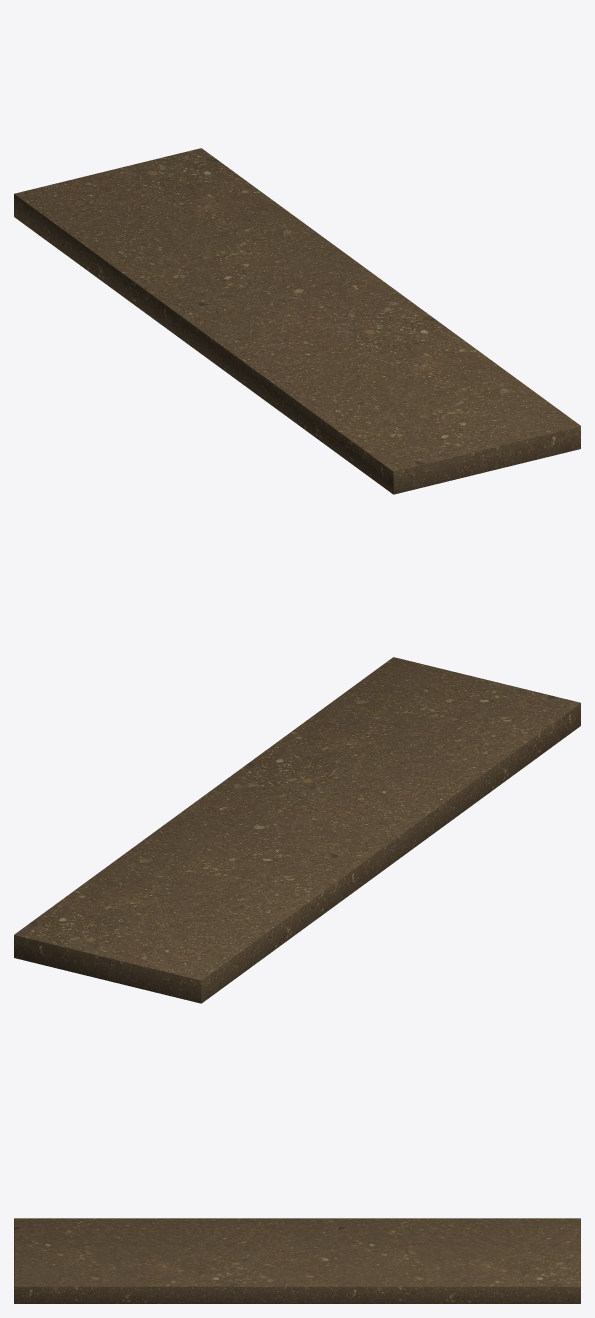
The model's file is TER-ESC-002_anim.glb.
3 views of the same model, one above another, from view 1: azimuth 30°, elevation 25°; view 2: azimuth 150°, elevation 25°; view 3: azimuth 270°, elevation 25° (orthographic). The views are drawn at different scales.
Visible parts, largest first — view 1: TER-ESC-002_anim0; view 2: TER-ESC-002_anim0; view 3: TER-ESC-002_anim0.
Boxes of the visible parts, x1,y1,x2,y2 form: TER-ESC-002_anim0: (14,148,580,494); TER-ESC-002_anim0: (14,657,580,1003); TER-ESC-002_anim0: (14,1218,580,1303).
Size of the model in its own units: 1 by 1.62 by 3.5.
2 materials, 2 textured.
